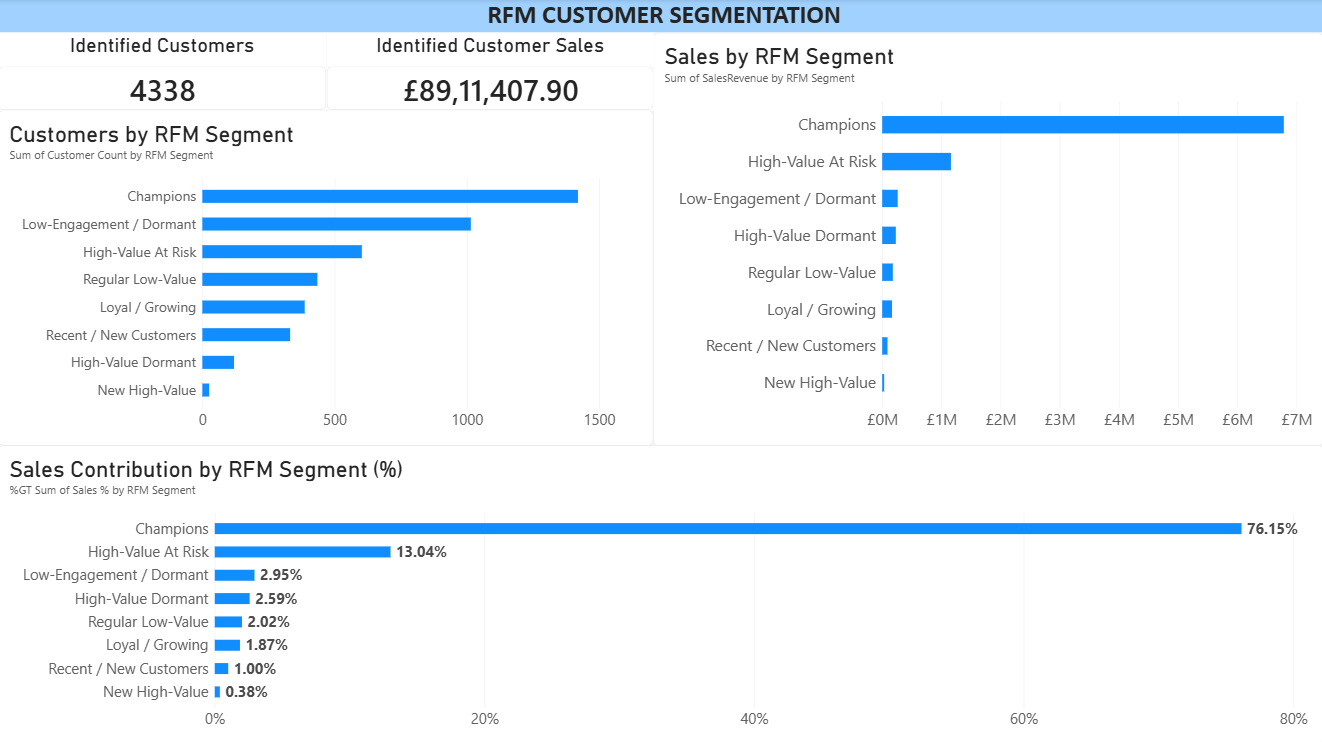

What the dashboard file says about the page in this screenshot:
{"tool":"powerbi","page":{"name":"RFM Customer Segmentation","canvas":[1920,1080],"ordinal":5},"visuals":[{"type":"clusteredBarChart","title":"Customers by RFM Segment","fields":{"Category":["RFM_Summary.RFM Segment"],"Y":["Sum(RFM_Summary.Customer Count)"]},"box":[0,160.6,948.7,485.8],"z":0},{"type":"clusteredBarChart","title":"Sales by RFM Segment","fields":{"Category":["RFM_Summary.RFM Segment"],"Y":["Sum(RFM_Summary.SalesRevenue)"]},"box":[948.7,48,971.7,598.4],"z":1000},{"type":"cardVisual","title":"Identified Customers","fields":{"Data":["Sum(RFM_Summary.Customer Count)"]},"box":[0,48,475.4,112.6],"z":2000},{"type":"cardVisual","title":"Identified Customer Sales","fields":{"Data":["Sum(RFM_Summary.SalesRevenue)"]},"box":[475.4,48,473.3,112.6],"z":3000},{"type":"clusteredBarChart","title":"Sales Contribution by RFM Segment (%)","fields":{"Category":["RFM_Summary.RFM Segment"],"Y":["Sum(RFM_Summary.Sales %)"]},"box":[0,646.4,1920.4,433.7],"z":4000},{"type":"textbox","box":[0,0,1920,48],"z":5000}]}

Visuals, with their boxes in screenshot pixels (x1, y1, x2, y2), scaled from the page's 1920x1080 canvas onto the 1322x742 screenshot:
"Customers by RFM Segment" clusteredBarChart: bbox=[0, 110, 653, 444]
"Sales by RFM Segment" clusteredBarChart: bbox=[653, 33, 1321, 444]
"Identified Customers" cardVisual: bbox=[0, 33, 327, 110]
"Identified Customer Sales" cardVisual: bbox=[327, 33, 653, 110]
"Sales Contribution by RFM Segment (%)" clusteredBarChart: bbox=[0, 444, 1321, 741]
textbox: bbox=[0, 0, 1321, 33]
